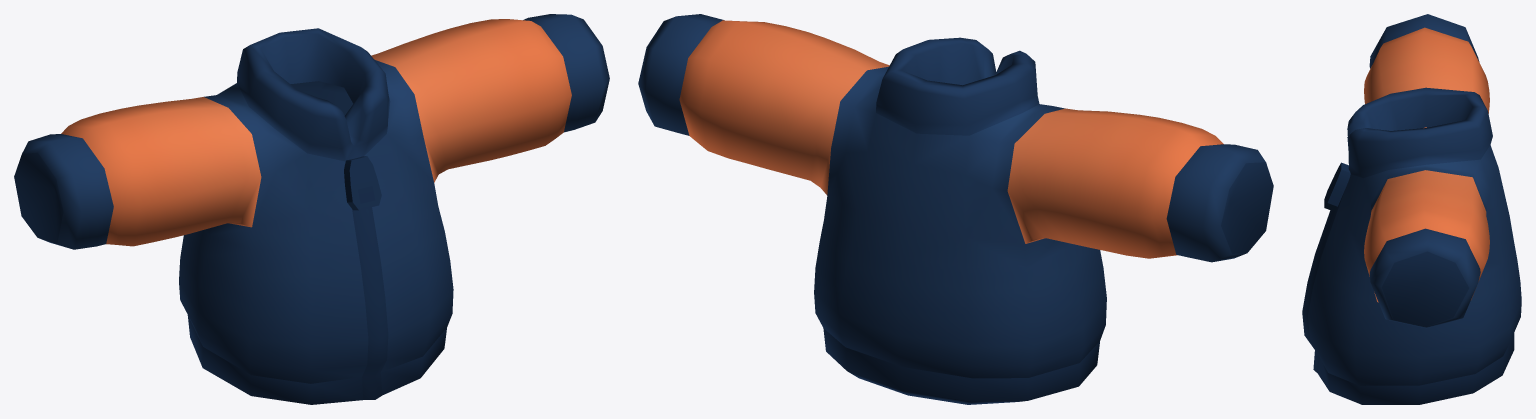
File: Top_36.fbx
3 views of the same model, side by side, from view 1: azimuth 30°, elevation 25°; view 2: azimuth 150°, elevation 25°; view 3: azimuth 270°, elevation 25° (orthographic). The views are drawn at different scales.
Parts seen in each view (by area): view 1: Top_36; view 2: Top_36; view 3: Top_36.
Boxes of the visible parts, <box> form: Top_36: <box>14,14,609,404</box>; Top_36: <box>638,14,1273,404</box>; Top_36: <box>1302,14,1521,404</box>.
Bounding box in the file's own units: 101 × 53.08 × 39.31.
